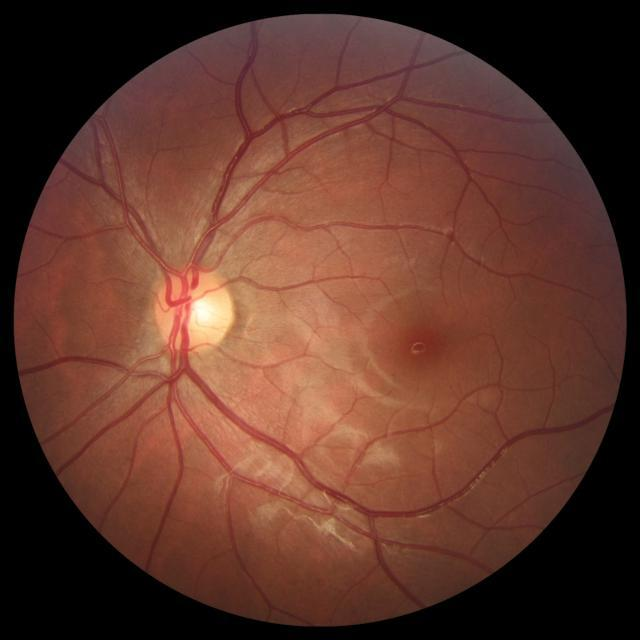OC: (180, 291, 214, 326)
OD: (150, 266, 237, 356)
